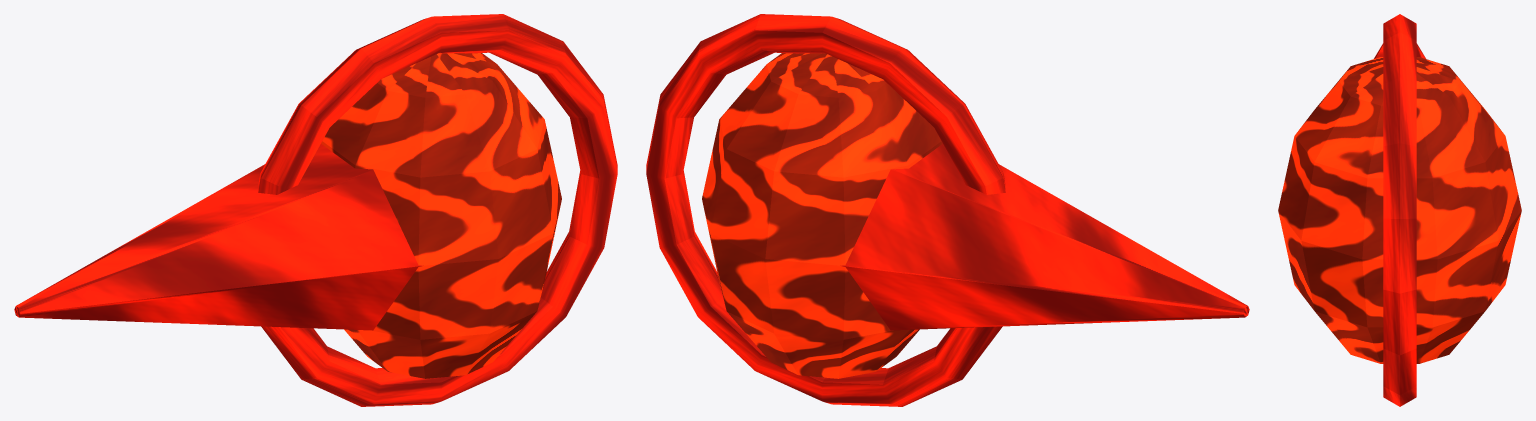
File: SM_FC_EmberProjectile.glb
3 renders of one model, left to right at view 1: azimuth 30°, elevation 25°; view 2: azimuth 150°, elevation 25°; view 3: azimuth 270°, elevation 25°, orthographic. The views are drawn at different scales.
Parts seen in each view (by area): view 1: SM_FC_EmberProjectile; view 2: SM_FC_EmberProjectile; view 3: SM_FC_EmberProjectile.
Part boxes in pixels (<box>): SM_FC_EmberProjectile: <box>14,14,617,406</box>; SM_FC_EmberProjectile: <box>646,14,1249,406</box>; SM_FC_EmberProjectile: <box>1278,14,1521,406</box>.
Bounding box in the file's own units: 1.15 × 0.71 × 0.44.
Materials: 2 (2 with a texture image).
